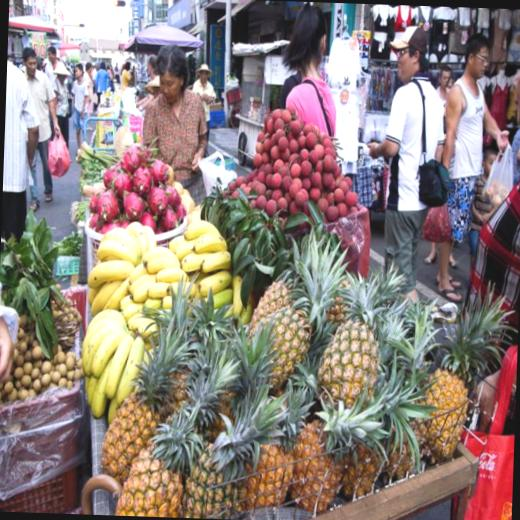Banana: (79, 216, 257, 426), (78, 302, 144, 426)
Mango: (97, 214, 520, 520), (96, 218, 520, 520), (100, 356, 188, 469)
